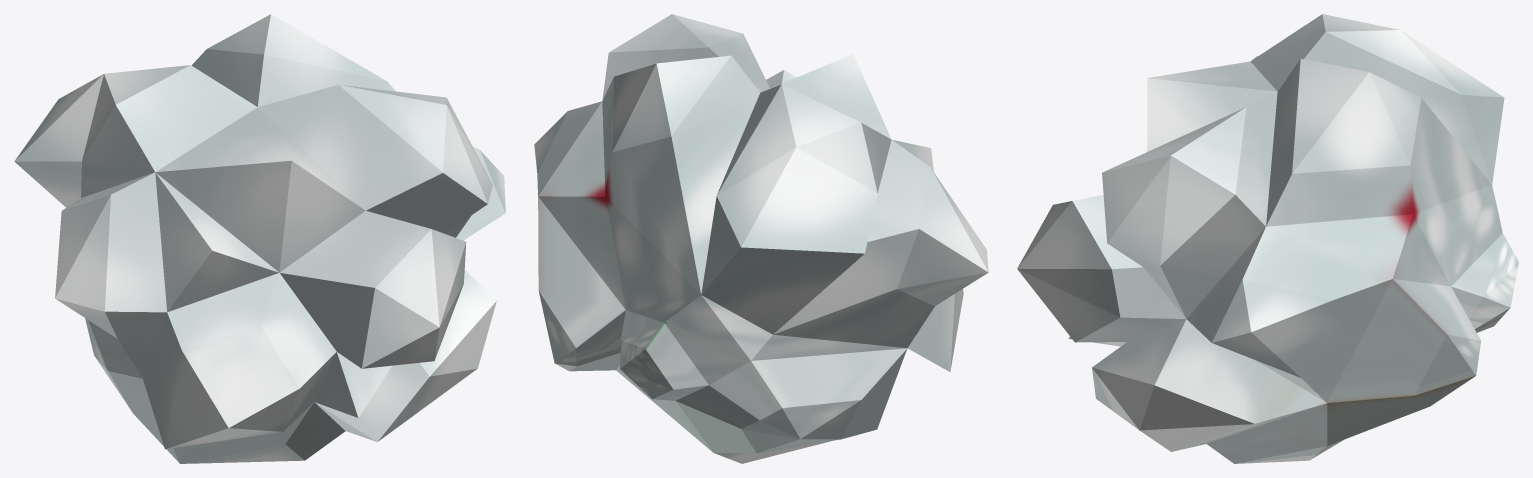
Rendered from cotton.FBX.
3 views of the same model, side by side, from view 1: azimuth 30°, elevation 25°; view 2: azimuth 150°, elevation 25°; view 3: azimuth 270°, elevation 25° (orthographic). The views are drawn at different scales.
Parts seen in each view (by area): view 1: Object01; view 2: Object01; view 3: Object01.
Boxes of the visible parts, x1,y1,x2,y2 form: Object01: (14, 14, 505, 463); Object01: (534, 14, 988, 463); Object01: (1017, 14, 1518, 463).
Size of the model in its own units: 33.02 by 28.22 by 30.83.
